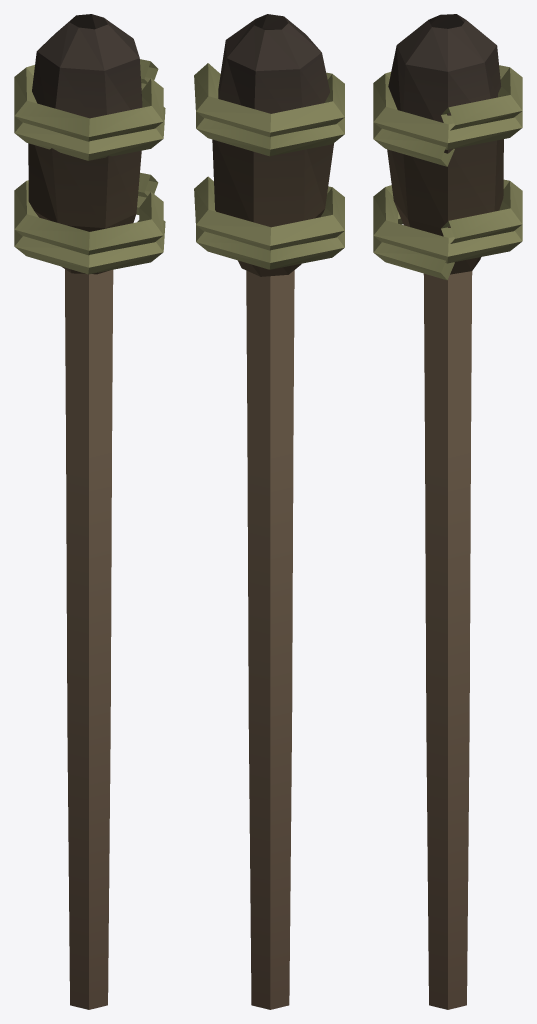
The model's file is torch_a.glb.
3 views of the same model, side by side, from view 1: azimuth 30°, elevation 25°; view 2: azimuth 150°, elevation 25°; view 3: azimuth 270°, elevation 25° (orthographic).
Parts seen in each view (by area): view 1: torch_a; view 2: torch_a; view 3: torch_a.
Boxes of the visible parts, x1=… form: torch_a: x1=14, y1=14, x2=165, y2=1009; torch_a: x1=194, y1=14, x2=344, y2=1009; torch_a: x1=373, y1=14, x2=522, y2=1009.
Size of the model in its own units: 0.11 by 0.69 by 0.0953.
